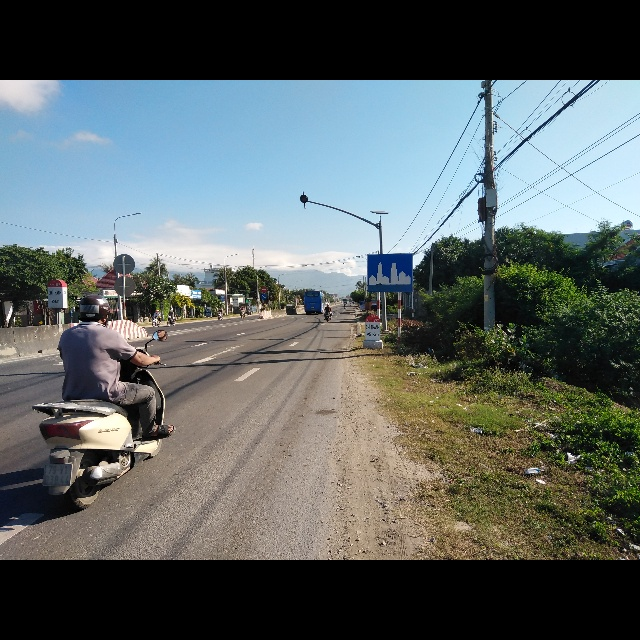Khu đông dân cư: (368, 252, 416, 292)
